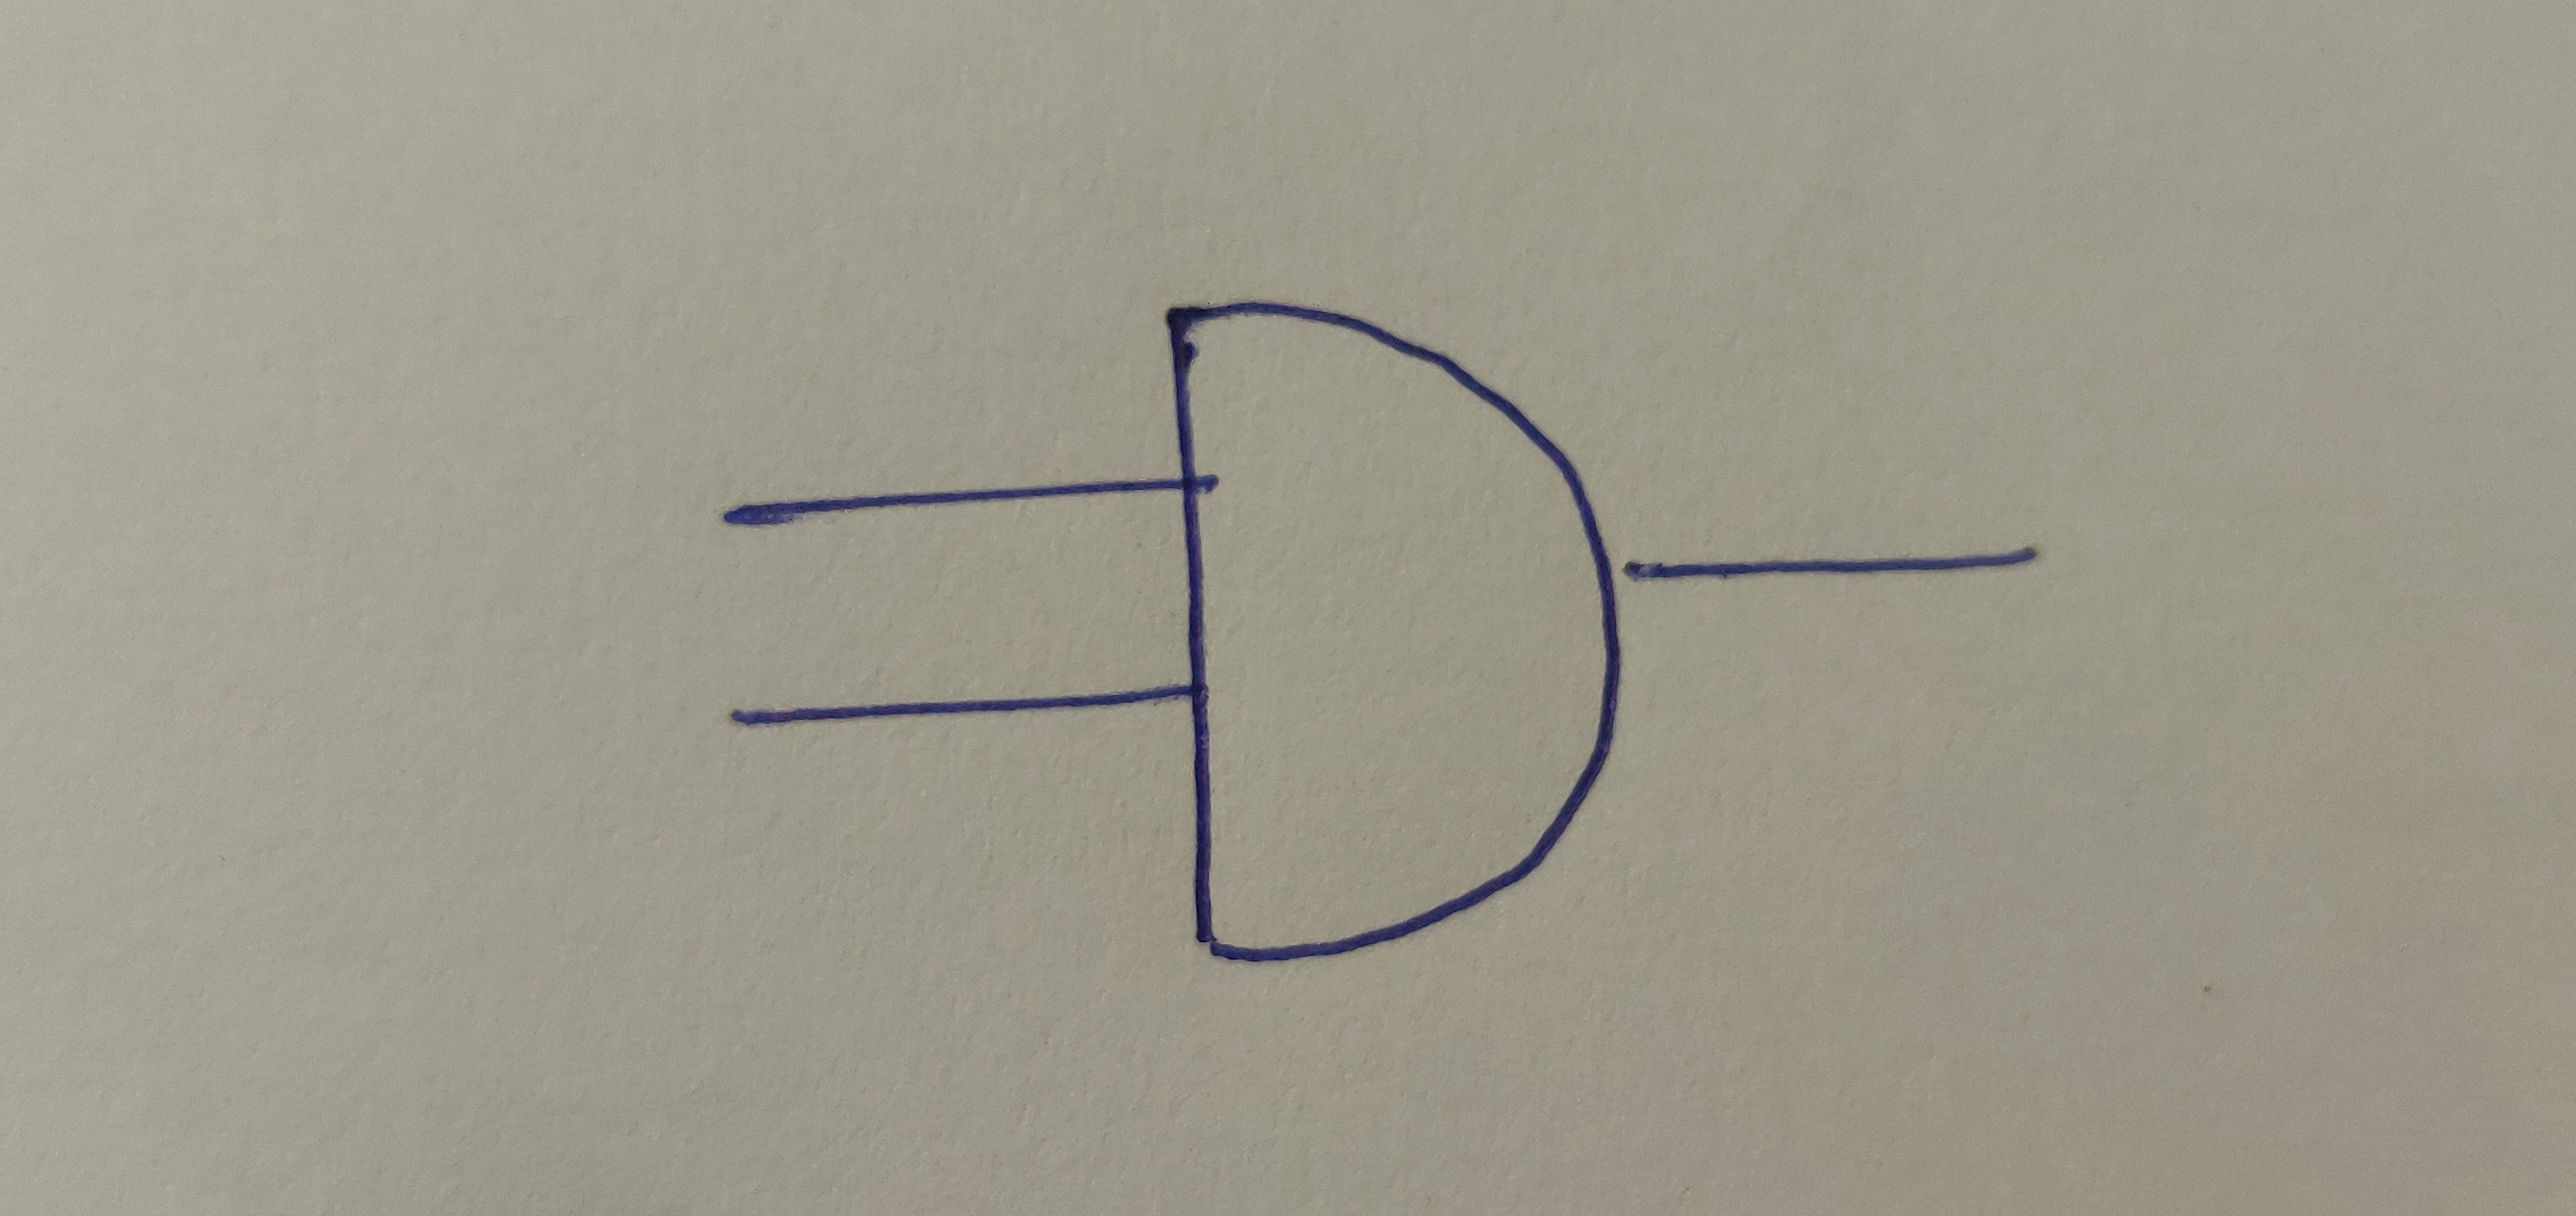and: (1161, 299, 1628, 963)
